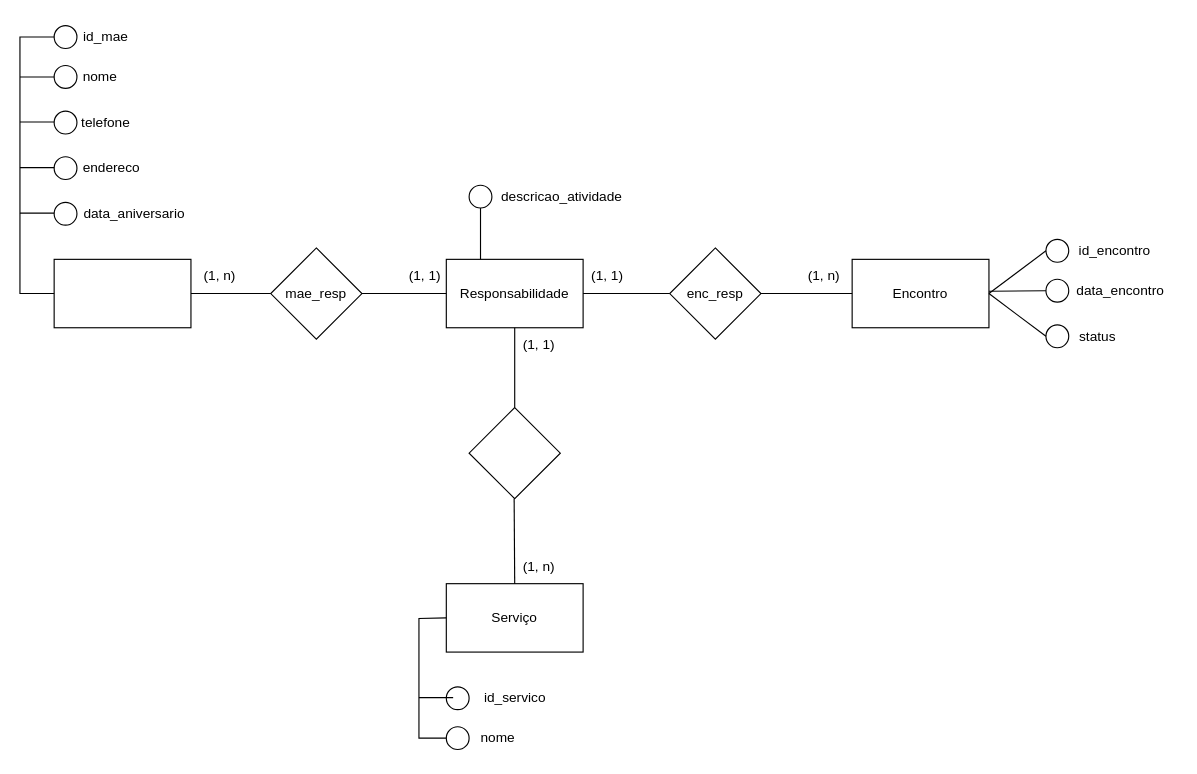
Some shapes in this 1197 by 774 pixel diagram are drawn without their labels. Here are the shapes that lost their labels. From the top down, the centre of each, then its label:
pixel 122 293: Mãe
pixel 514 452: serv_resp
